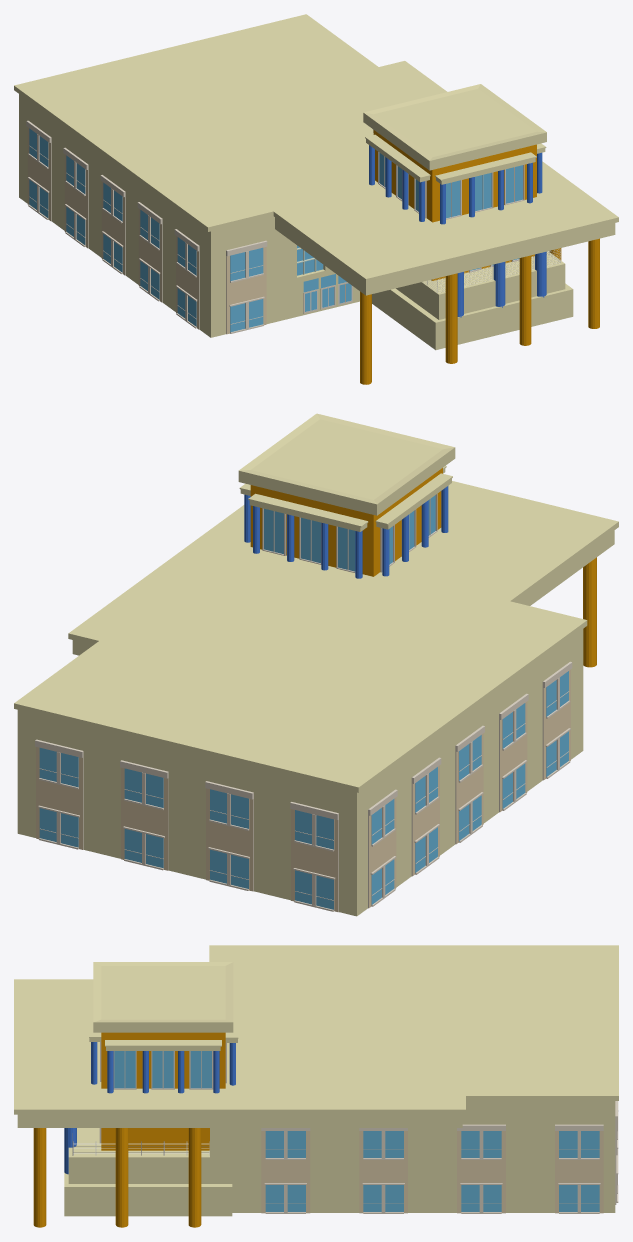
File: fiu_law.fbx
3 renders of one model, top to bottom at view 1: azimuth 30°, elevation 25°; view 2: azimuth 150°, elevation 25°; view 3: azimuth 270°, elevation 25°, orthographic. The views are drawn at different scales.
Visible parts, largest first — view 1: Plane, Tower, Window_Side_top.001, Window_Side_top, TowerWindow, Pole.006, Pole.002, Pole.003, TowerSill, Pole, Pole.001, Doors (+4 smaller); view 2: Plane, Window_Side_top.002, Tower, Window_Side_top.001, TowerWindow.002, TowerSill.002, TowerPoles.002, Pole, TowerPoles.001, TowerSill.001, TowerWindow.001; view 3: Plane, Window_Side_top.003, Tower, TowerWindow.003, Pole.001, Pole.005, Pole.004, TowerSill.003, TowerPoles.003, FenceSegment.002, TowerSill.002, Window_Side_top.002.
Part boxes in pixels (bbox=[...]): Plane: bbox=[14, 14, 618, 350]; Tower: bbox=[363, 84, 546, 280]; Window_Side_top.001: bbox=[26, 120, 199, 329]; Window_Side_top: bbox=[226, 240, 267, 334]; TowerWindow: bbox=[446, 164, 524, 219]; Pole.006: bbox=[457, 251, 546, 317]; Pole.002: bbox=[519, 255, 531, 345]; Pole.003: bbox=[445, 273, 457, 363]; TowerSill: bbox=[435, 152, 536, 184]; Pole: bbox=[360, 291, 371, 384]; Pole.001: bbox=[588, 238, 599, 328]; Doors: bbox=[303, 282, 352, 313]; Plane: bbox=[14, 481, 618, 916]; Window_Side_top.002: bbox=[35, 739, 338, 912]; Tower: bbox=[238, 413, 455, 576]; Window_Side_top.001: bbox=[368, 661, 572, 908]; TowerWindow.002: bbox=[262, 508, 355, 572]; TowerSill.002: bbox=[248, 493, 368, 531]; TowerPoles.002: bbox=[253, 506, 362, 578]; Pole: bbox=[583, 557, 596, 667]; TowerPoles.001: bbox=[382, 486, 448, 576]; TowerSill.001: bbox=[375, 473, 452, 529]; TowerWindow.001: bbox=[380, 493, 437, 572]; Plane: bbox=[14, 945, 618, 1216]; Window_Side_top.003: bbox=[261, 1124, 603, 1213]; Tower: bbox=[93, 962, 233, 1150]; TowerWindow.003: bbox=[113, 1051, 213, 1089]; Pole.001: bbox=[33, 1128, 46, 1227]; Pole.005: bbox=[188, 1128, 201, 1227]; Pole.004: bbox=[115, 1128, 128, 1227]; TowerSill.003: bbox=[105, 1040, 221, 1050]; TowerPoles.003: bbox=[107, 1051, 219, 1093]; FenceSegment.002: bbox=[73, 1141, 209, 1155]; TowerSill.002: bbox=[225, 988, 238, 1042]; Window_Side_top.002: bbox=[615, 1101, 618, 1204].
Size of the model in its own units: 370 by 201 by 575.
